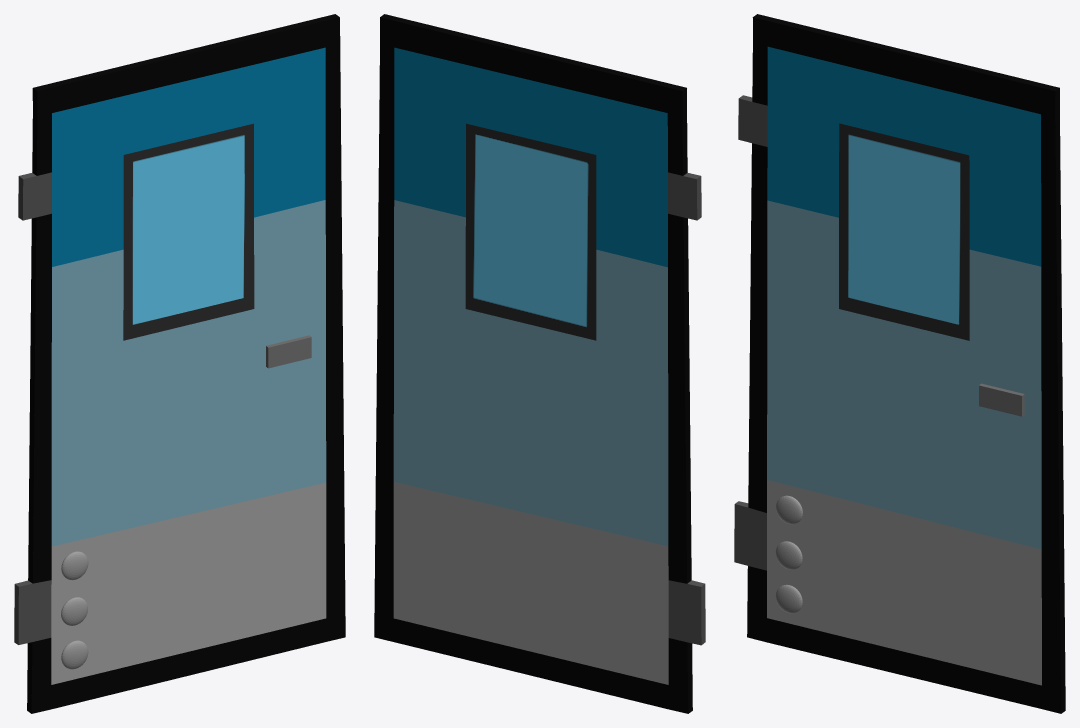
Rendered from puert4.fbx.
The picture shows the model from 3 angles, left to right: view 1: azimuth 30°, elevation 25°; view 2: azimuth 150°, elevation 25°; view 3: azimuth 330°, elevation 25°; orthographic projection.
Visible parts, largest first — view 1: Cube; view 2: Cube; view 3: Cube.
Part boxes in pixels (box(x1,y1,x2,y2)): Cube: box(14, 14, 345, 713); Cube: box(374, 14, 705, 713); Cube: box(734, 14, 1065, 713).
Bounding box in the file's own units: 829 × 1505 × 32.66.
1 material, 1 textured.
